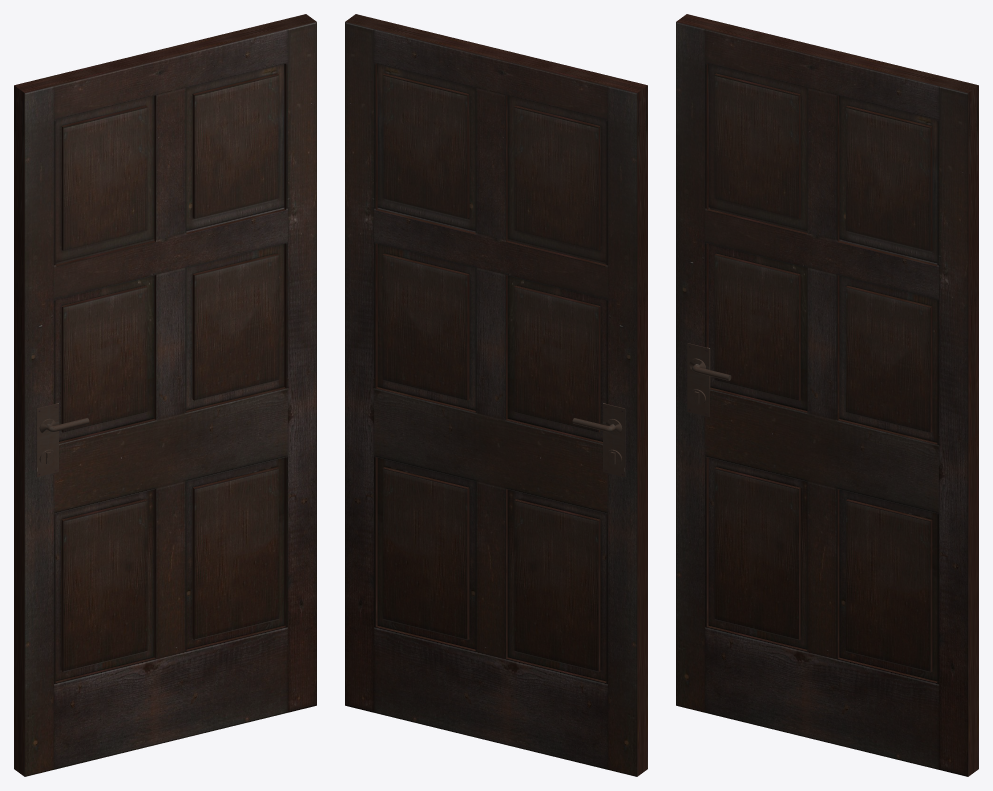
File: OldWoodenDoor_01.fbx
3 views of the same model, side by side, from view 1: azimuth 30°, elevation 25°; view 2: azimuth 150°, elevation 25°; view 3: azimuth 330°, elevation 25° (orthographic).
Parts seen in each view (by area): view 1: Cube.015; view 2: Cube.015; view 3: Cube.015.
Boxes of the visible parts, <box> form: Cube.015: <box>14,14,316,776</box>; Cube.015: <box>345,14,647,776</box>; Cube.015: <box>676,14,978,776</box>.
Size of the model in its own units: 97.6 by 218 by 13.27.
